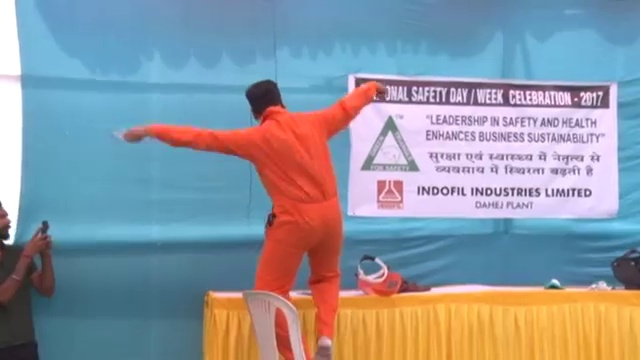helmet_off: (245, 79, 286, 123), (1, 200, 14, 243)
person: (122, 76, 391, 360), (1, 196, 56, 357)
